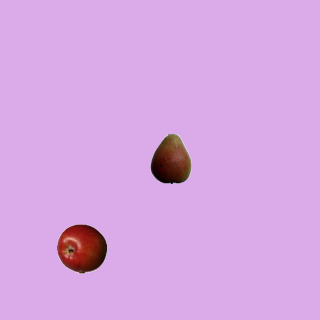Apple Braeburn: (56, 223, 106, 273)
Pear Forelle: (145, 133, 195, 183)
